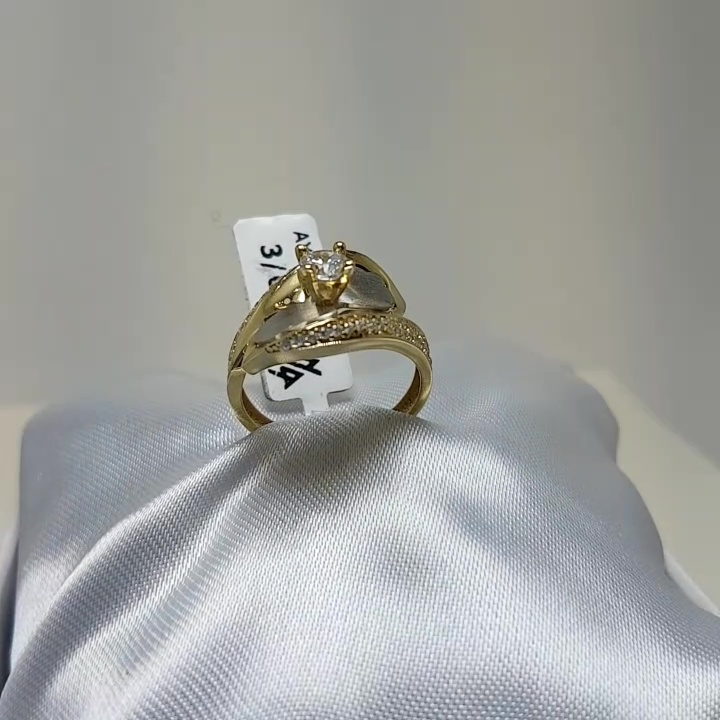Ring 6: (201, 231, 446, 461)
